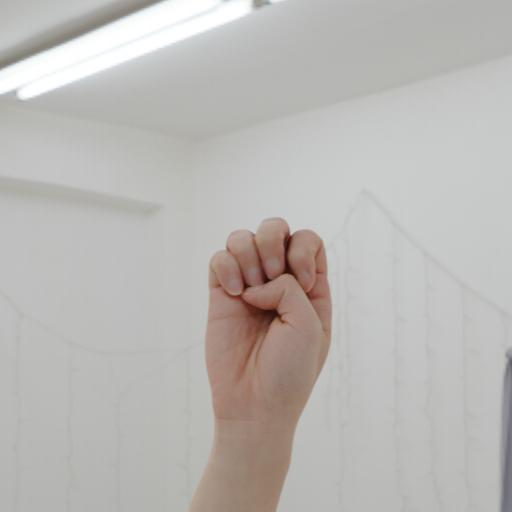E: (201, 215, 338, 433)
